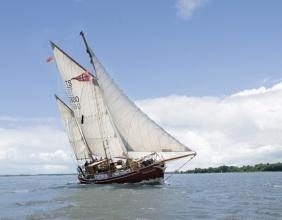fanchuan: (45, 28, 193, 187)
